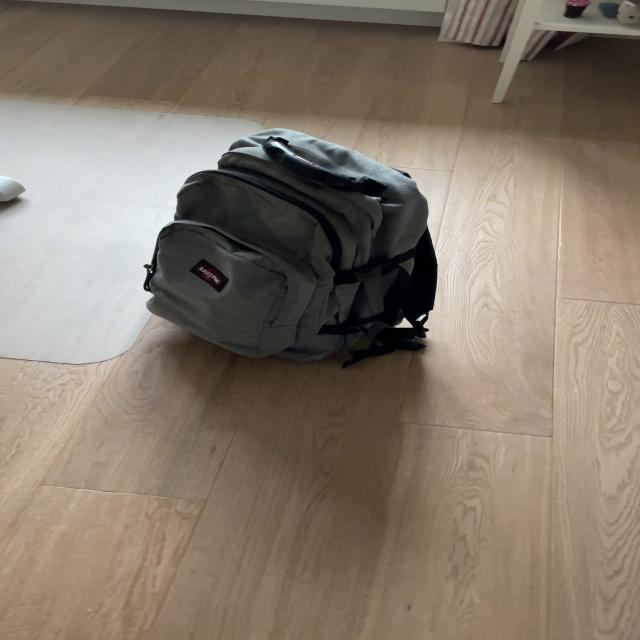backpack: (134, 119, 448, 368)
